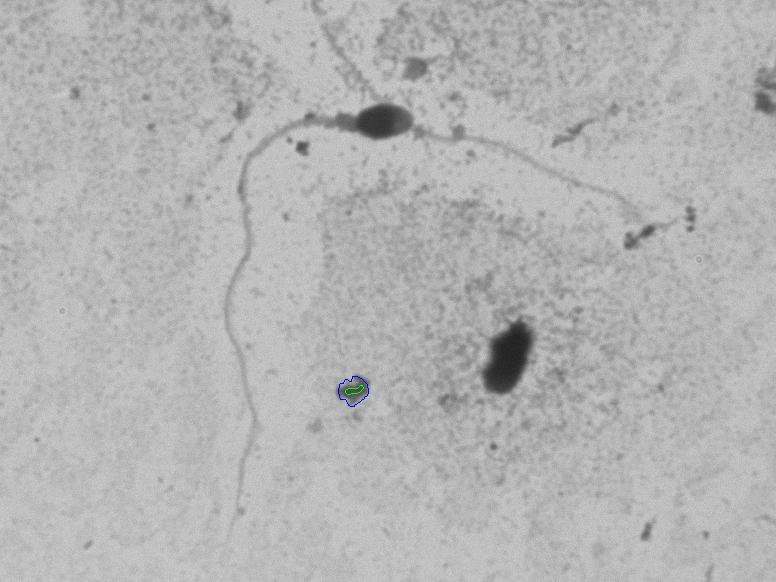Normal: (172, 65, 420, 527)
